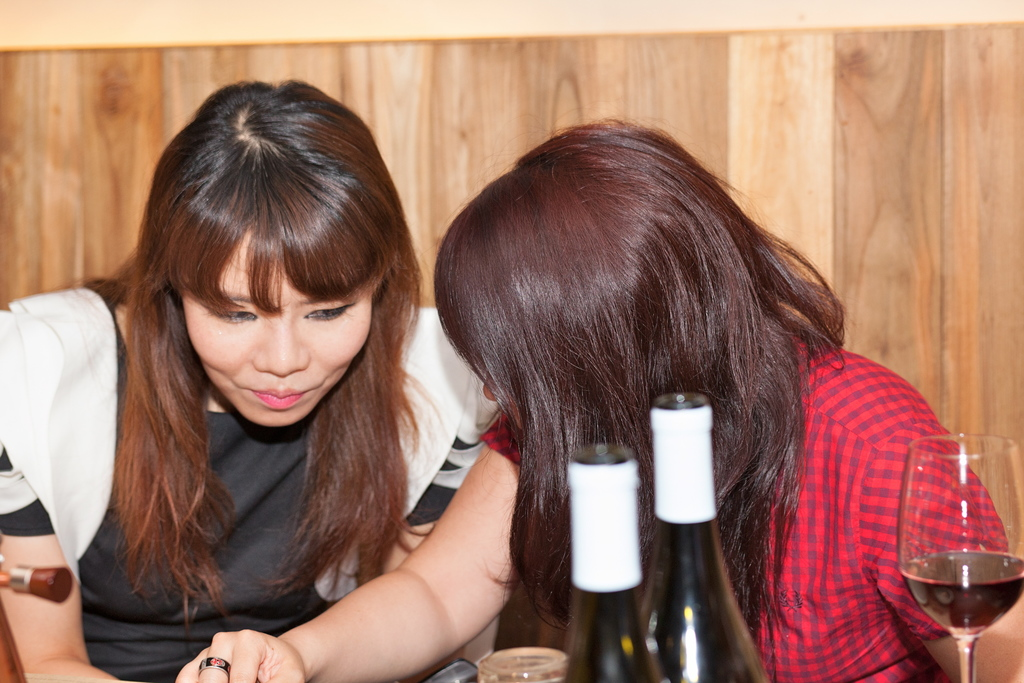can: (639, 390, 761, 680), (562, 440, 668, 680)
